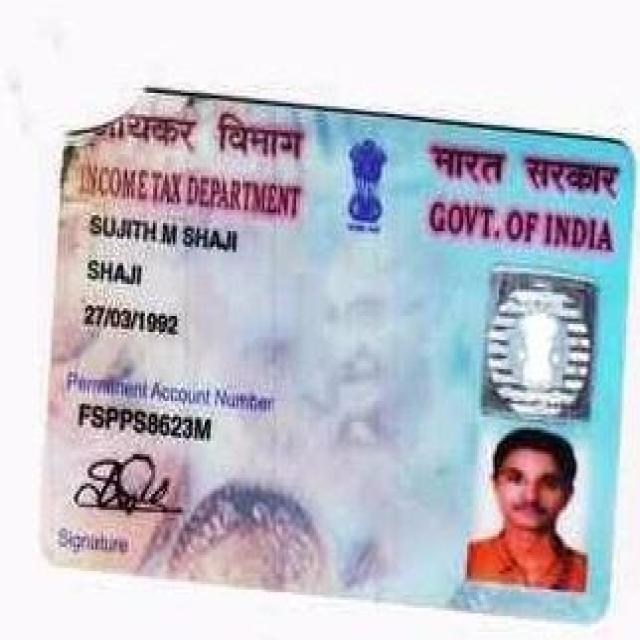pan_card: (38, 92, 629, 620)
